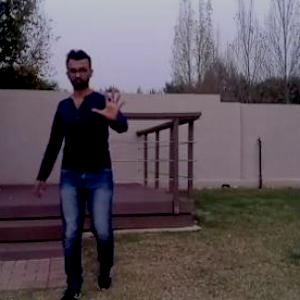follow_hand: (92, 82, 130, 122)
